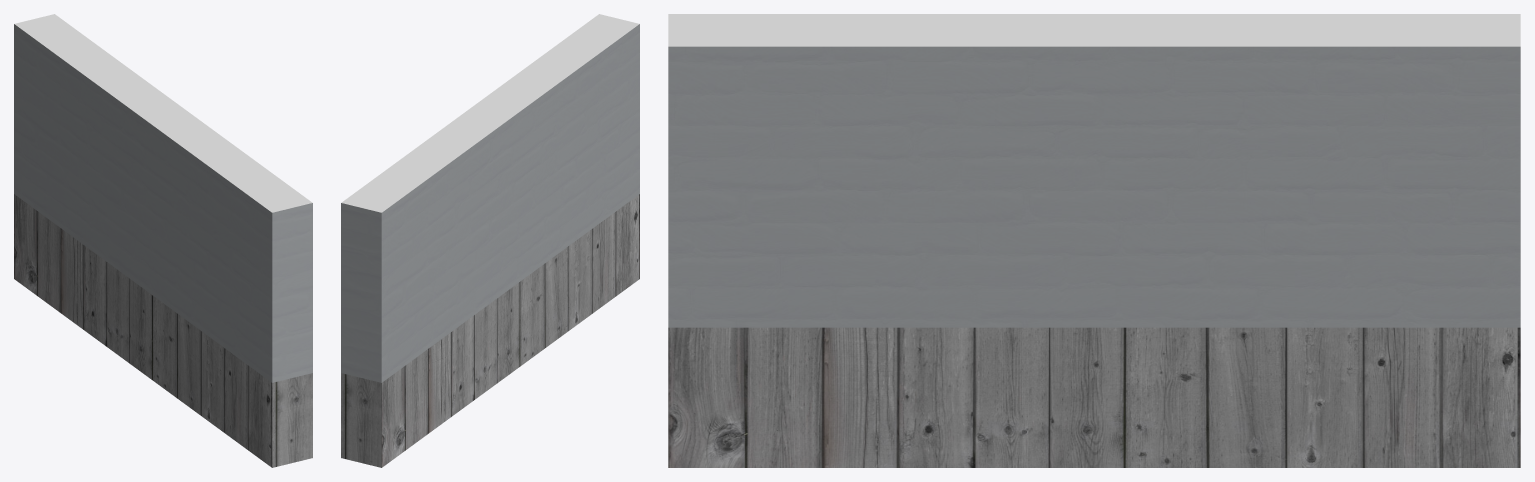
The model's file is Wall.fbx.
3 renders of one model, left to right at view 1: azimuth 30°, elevation 25°; view 2: azimuth 150°, elevation 25°; view 3: azimuth 270°, elevation 25°, orthographic. The views are drawn at different scales.
Parts seen in each view (by area): view 1: Wall; view 2: Wall; view 3: Wall.
Part boxes in pixels (<box>): Wall: <box>14,14,312,467</box>; Wall: <box>341,14,639,467</box>; Wall: <box>668,14,1520,467</box>.
Size of the model in its own units: 0.5 by 3 by 5.5.
